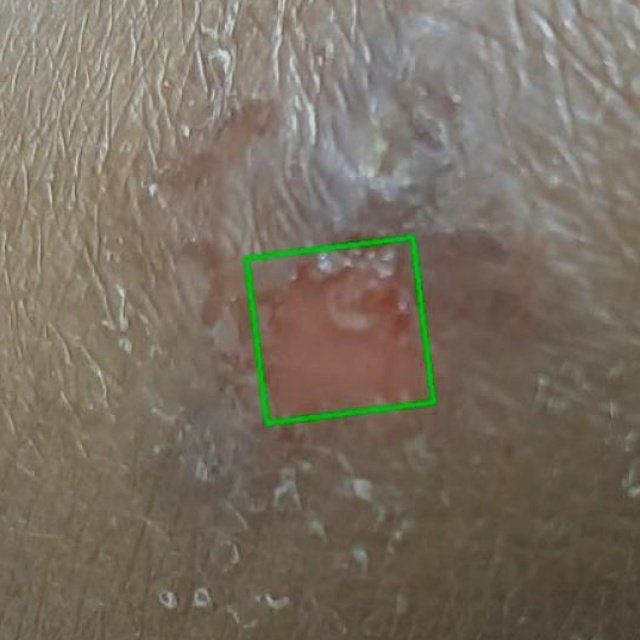Eczema: (247, 238, 434, 424)
